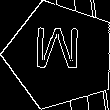M_S: (36, 30, 85, 81)
